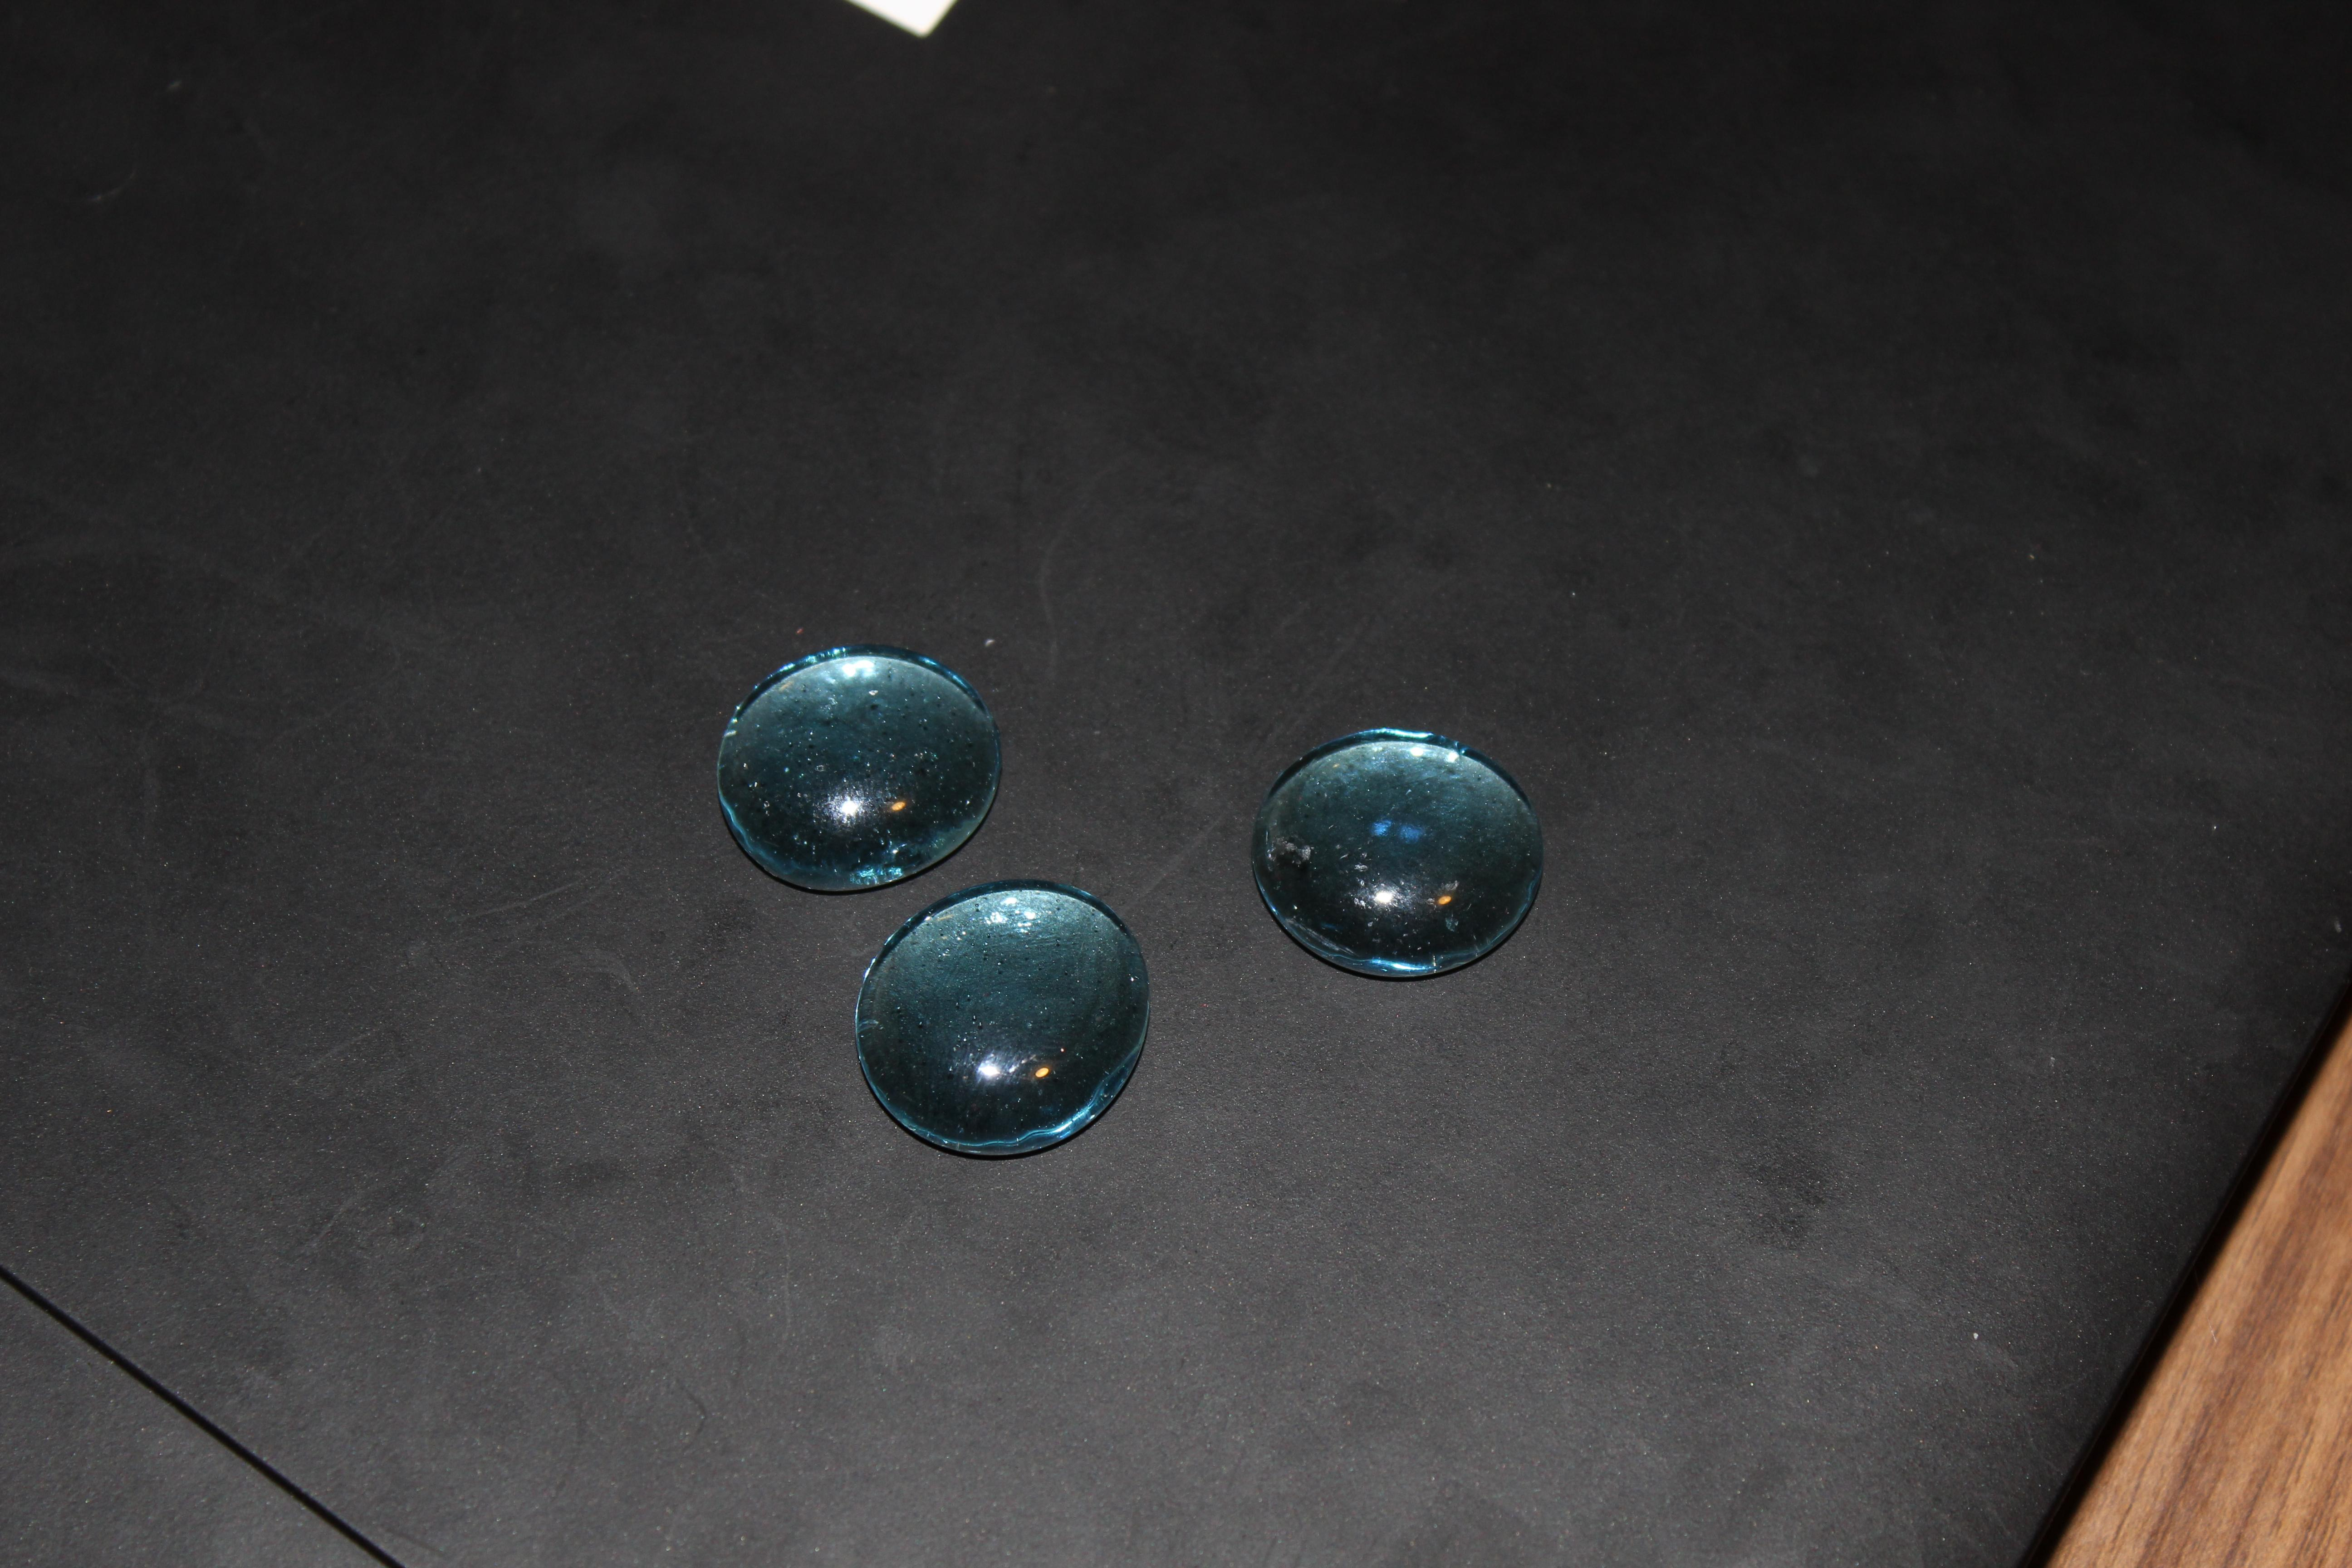glassBead: (826, 875, 1178, 1174), (1228, 712, 1575, 996), (689, 635, 1019, 910)
